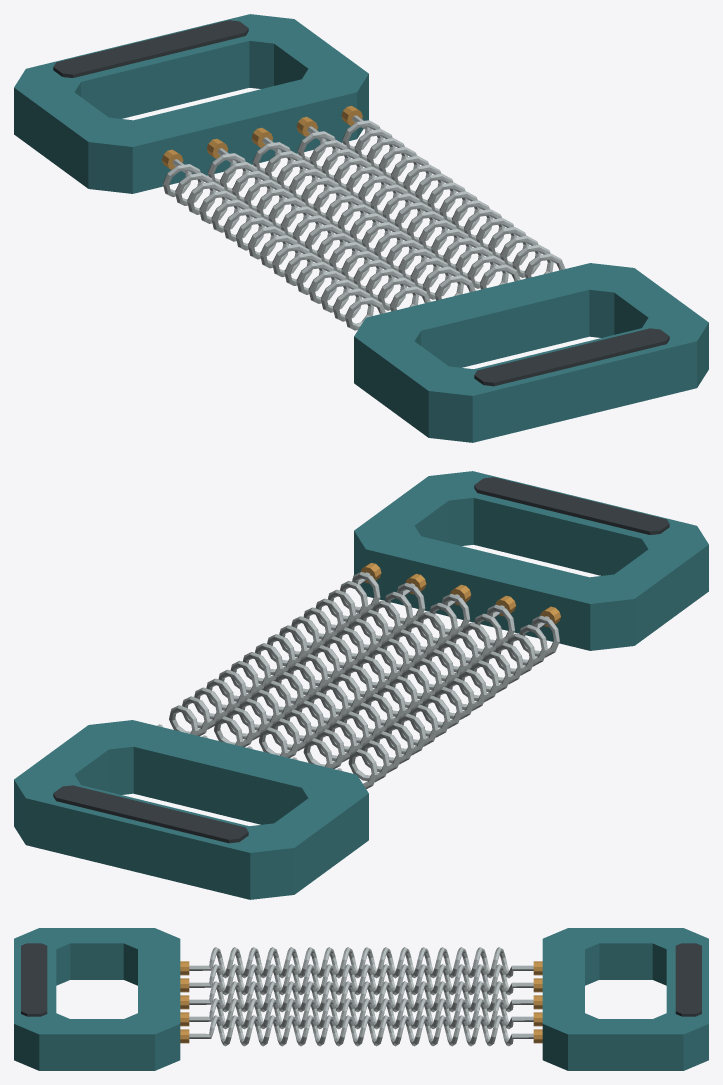
3 views of the same model, one above another, from view 1: azimuth 30°, elevation 25°; view 2: azimuth 150°, elevation 25°; view 3: azimuth 270°, elevation 25° (orthographic). The views are drawn at different scales.
Visible parts, largest first — view 1: WholeNearChamferedLoopHandle, WholeFarChamferedLoopHandle, WholeContinuousExtensionCoilAndBothTails00, WholeContinuousExtensionCoilAndBothTails03, WholeContinuousExtensionCoilAndBothTails02, WholeContinuousExtensionCoilAndBothTails04, WholeContinuousExtensionCoilAndBothTails01, WholeNearOuterGripSleeve, WholeFarOuterGripSleeve; view 2: WholeFarChamferedLoopHandle, WholeNearChamferedLoopHandle, WholeContinuousExtensionCoilAndBothTails00, WholeContinuousExtensionCoilAndBothTails01, WholeContinuousExtensionCoilAndBothTails02, WholeContinuousExtensionCoilAndBothTails04, WholeContinuousExtensionCoilAndBothTails03, WholeNearOuterGripSleeve, WholeFarOuterGripSleeve; view 3: WholeNearChamferedLoopHandle, WholeFarChamferedLoopHandle, WholeContinuousExtensionCoilAndBothTails04, WholeContinuousExtensionCoilAndBothTails02, WholeContinuousExtensionCoilAndBothTails03, WholeContinuousExtensionCoilAndBothTails01, WholeContinuousExtensionCoilAndBothTails00, WholeNearOuterGripSleeve, WholeFarOuterGripSleeve.
Boxes of the visible parts, <box> form: WholeNearChamferedLoopHandle: <box>354,263,708,442</box>; WholeFarChamferedLoopHandle: <box>14,14,368,193</box>; WholeContinuousExtensionCoilAndBothTails00: <box>163,159,385,330</box>; WholeContinuousExtensionCoilAndBothTails03: <box>297,126,520,289</box>; WholeContinuousExtensionCoilAndBothTails02: <box>252,137,475,300</box>; WholeContinuousExtensionCoilAndBothTails04: <box>342,115,565,278</box>; WholeContinuousExtensionCoilAndBothTails01: <box>208,148,430,311</box>; WholeNearOuterGripSleeve: <box>474,328,669,386</box>; WholeFarOuterGripSleeve: <box>53,20,248,77</box>; WholeFarChamferedLoopHandle: <box>14,720,368,899</box>; WholeNearChamferedLoopHandle: <box>354,471,708,650</box>; WholeContinuousExtensionCoilAndBothTails00: <box>337,615,559,789</box>; WholeContinuousExtensionCoilAndBothTails01: <box>292,604,514,768</box>; WholeContinuousExtensionCoilAndBothTails02: <box>247,594,470,757</box>; WholeContinuousExtensionCoilAndBothTails04: <box>157,572,380,736</box>; WholeContinuousExtensionCoilAndBothTails03: <box>202,583,425,747</box>; WholeNearOuterGripSleeve: <box>474,477,669,534</box>; WholeFarOuterGripSleeve: <box>53,785,248,843</box>; WholeNearChamferedLoopHandle: <box>14,928,180,1070</box>; WholeFarChamferedLoopHandle: <box>542,928,708,1070</box>; WholeContinuousExtensionCoilAndBothTails04: <box>189,1015,533,1046</box>; WholeContinuousExtensionCoilAndBothTails02: <box>189,981,533,1012</box>; WholeContinuousExtensionCoilAndBothTails03: <box>189,998,533,1029</box>; WholeContinuousExtensionCoilAndBothTails01: <box>189,964,533,995</box>; WholeContinuousExtensionCoilAndBothTails00: <box>189,947,533,978</box>; WholeNearOuterGripSleeve: <box>21,943,47,1016</box>; WholeFarOuterGripSleeve: <box>675,943,701,1016</box>.
Bounding box in the file's own units: 0.25 × 0.043 × 0.69.
